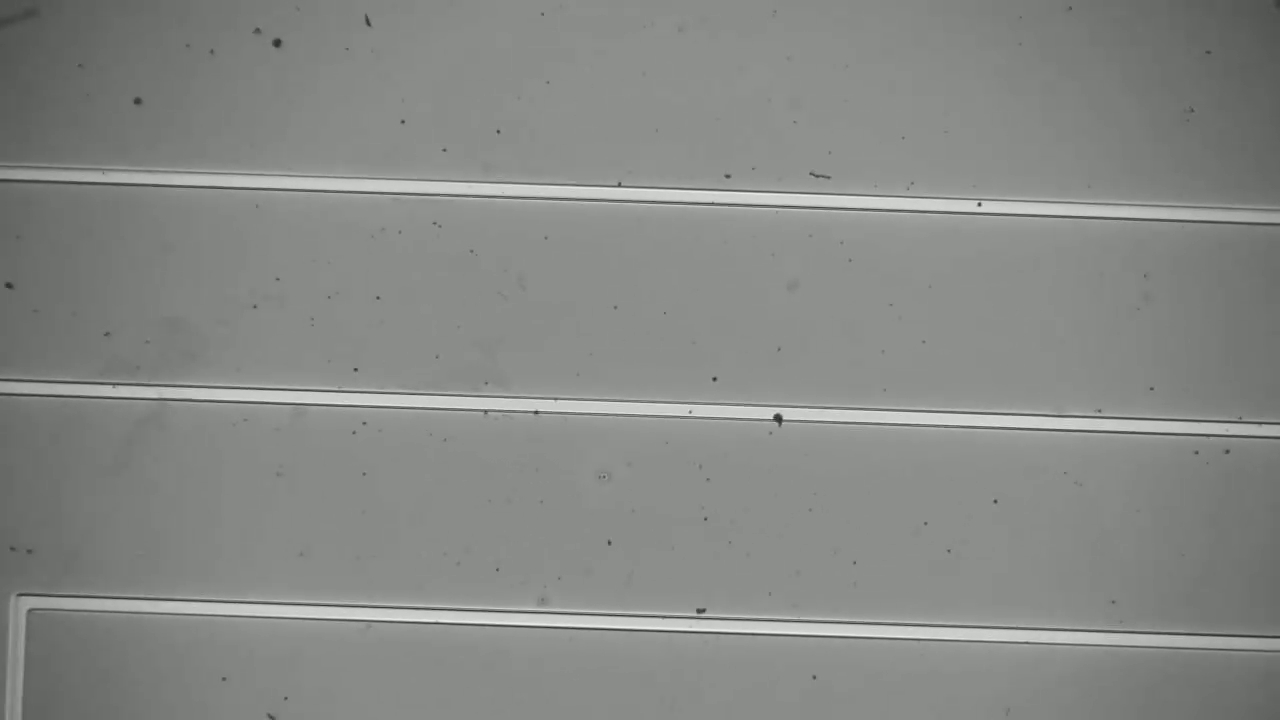stains_enbedded: (766, 401, 790, 434)
